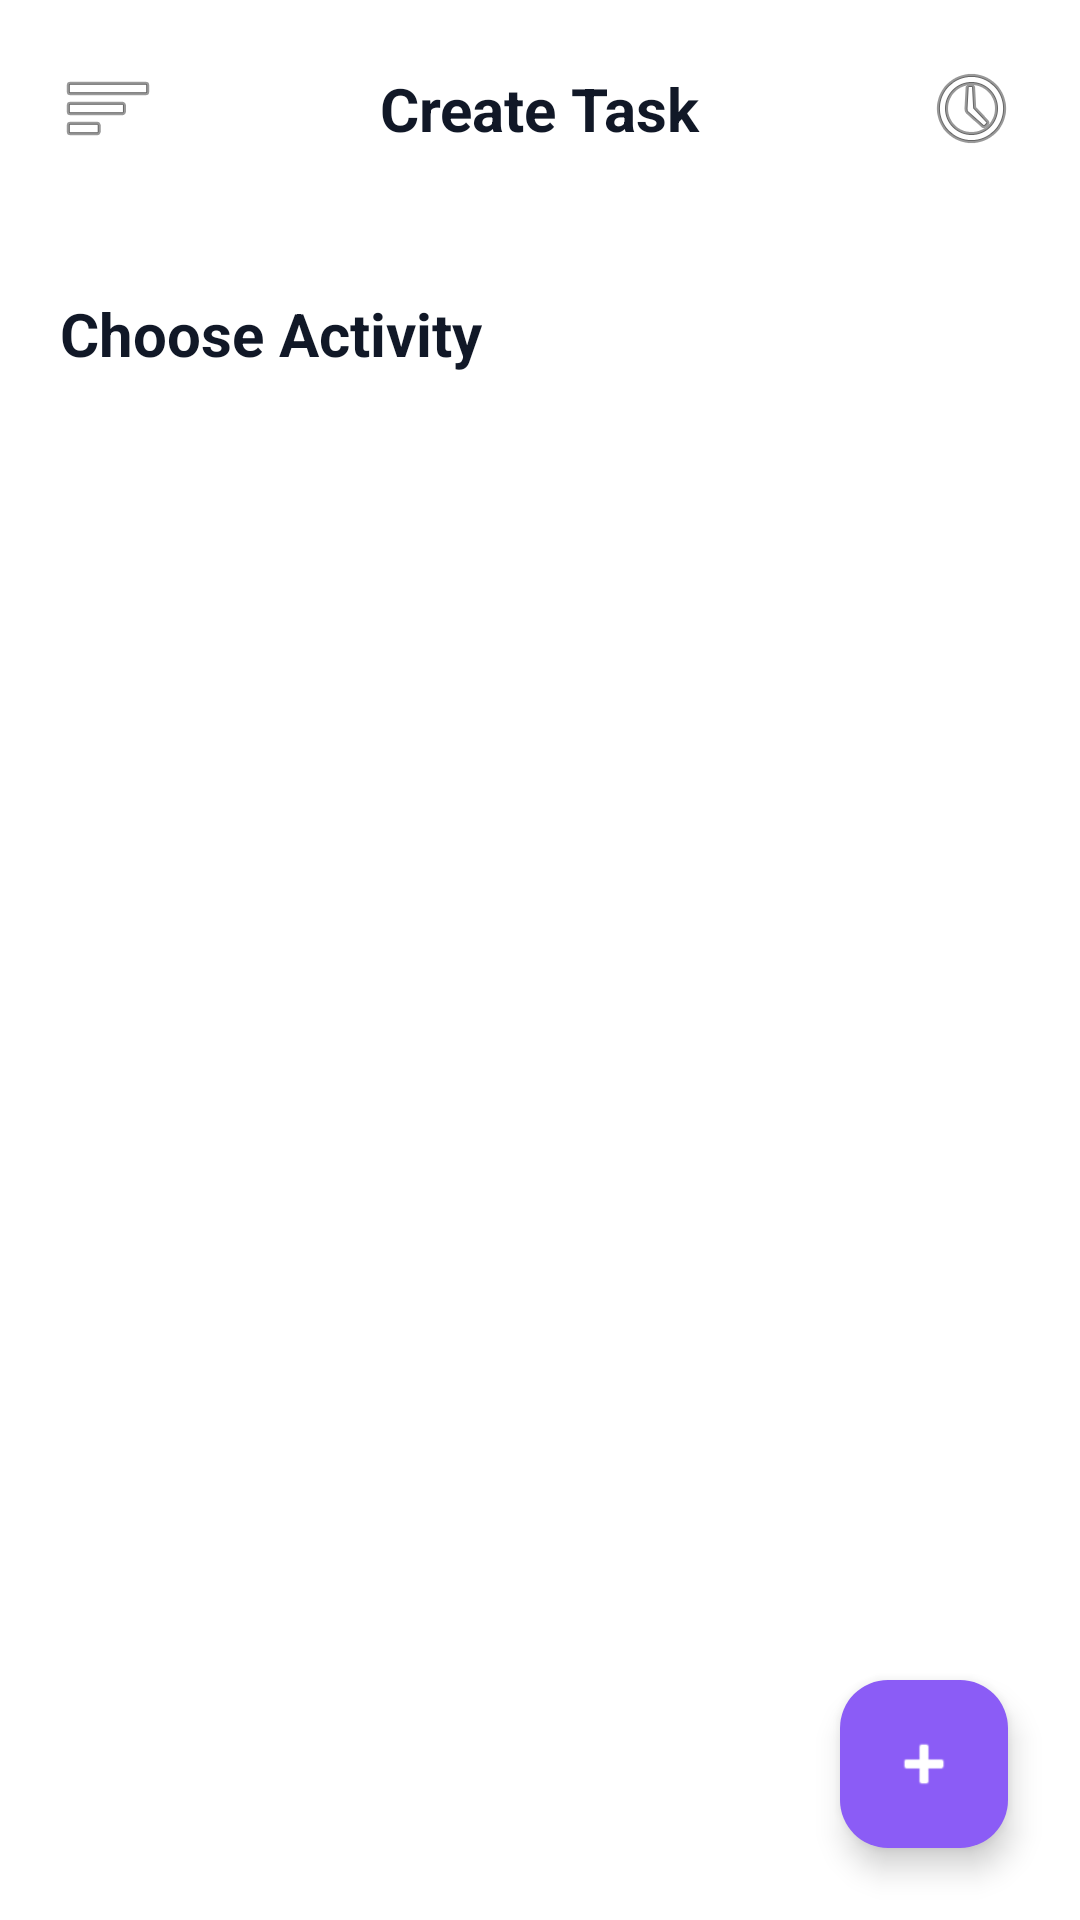

Where icons sit on this 1080x1920 app screen, as (x1, y1, x2, y2):
add: (840, 1680, 1008, 1848)
recent history: (937, 74, 1006, 143)
sort by size: (67, 82, 149, 135)
